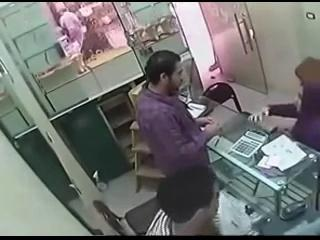Normal: (136, 50, 222, 178), (147, 164, 220, 236), (201, 82, 243, 113), (230, 128, 268, 158), (280, 200, 308, 220)
